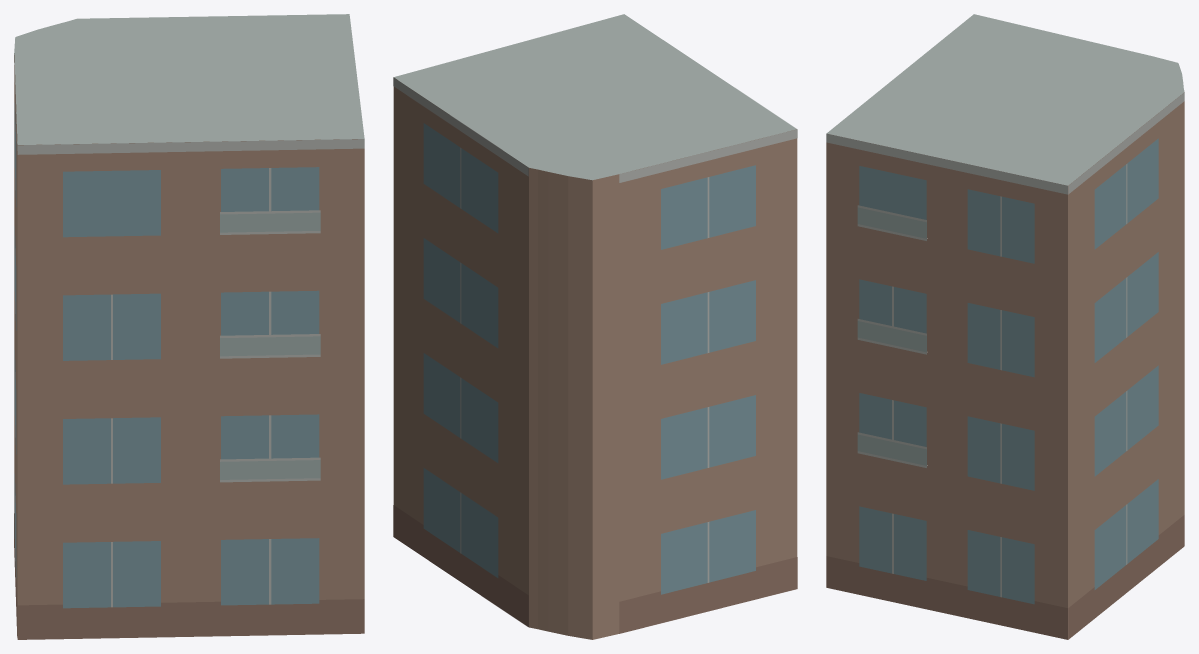
File: survey-upis-33041057.glb
3 renders of one model, left to right at view 1: azimuth 30°, elevation 25°; view 2: azimuth 150°, elevation 25°; view 3: azimuth 270°, elevation 25°, orthographic. The views are drawn at different scales.
Visible parts, largest first — view 1: survey-upis-33041057.tmp; view 2: survey-upis-33041057.tmp; view 3: survey-upis-33041057.tmp.
Boxes of the visible parts, x1,y1,x2,y2 form: survey-upis-33041057.tmp: [14, 14, 364, 639]; survey-upis-33041057.tmp: [393, 14, 797, 639]; survey-upis-33041057.tmp: [826, 14, 1184, 639].
Bounding box in the file's own units: 10.07 × 12.4 × 8.87.
